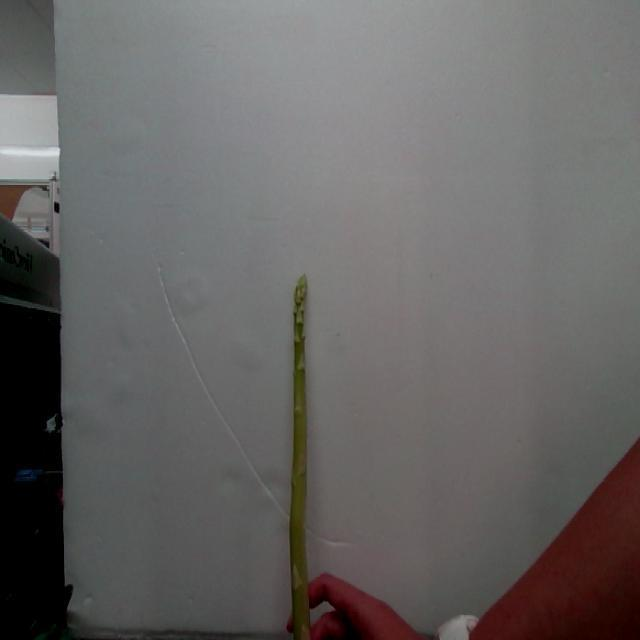aspargus: (290, 277, 312, 640)
